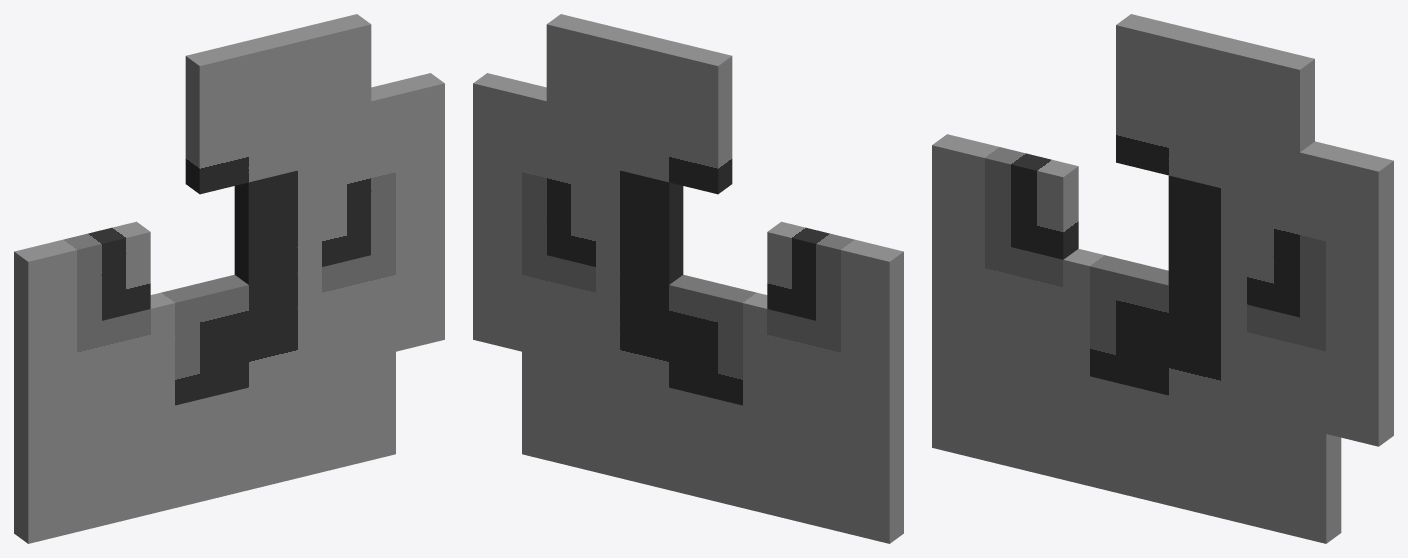
File: ICON_BRK_Banana_Dance.fbx
The picture shows the model from 3 angles, left to right: view 1: azimuth 30°, elevation 25°; view 2: azimuth 150°, elevation 25°; view 3: azimuth 330°, elevation 25°; orthographic projection. The views are drawn at different scales.
Visible parts, largest first — view 1: ICON_BRK_Banana_Dance; view 2: ICON_BRK_Banana_Dance; view 3: ICON_BRK_Banana_Dance.
Boxes of the visible parts, x1,y1,x2,y2 form: ICON_BRK_Banana_Dance: [14, 14, 444, 543]; ICON_BRK_Banana_Dance: [473, 14, 903, 543]; ICON_BRK_Banana_Dance: [932, 14, 1393, 543].
Bounding box in the file's own units: 17 × 17 × 1.
1 material, 1 textured.
